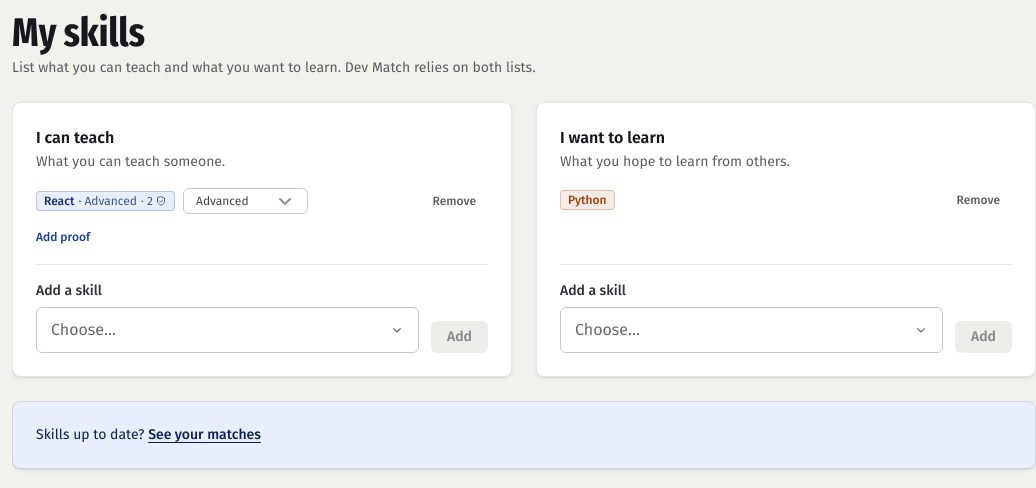
page des compétences › parle anglais quand l interface est en anglais
expect the heading "I can teach" is shown: met, box [36, 128, 114, 147]
expect the heading "I want to learn" is shown: met, box [560, 128, 665, 147]
Click the dropdown labelled "Add a skill" below "React" at (228, 330), box [36, 307, 419, 353]
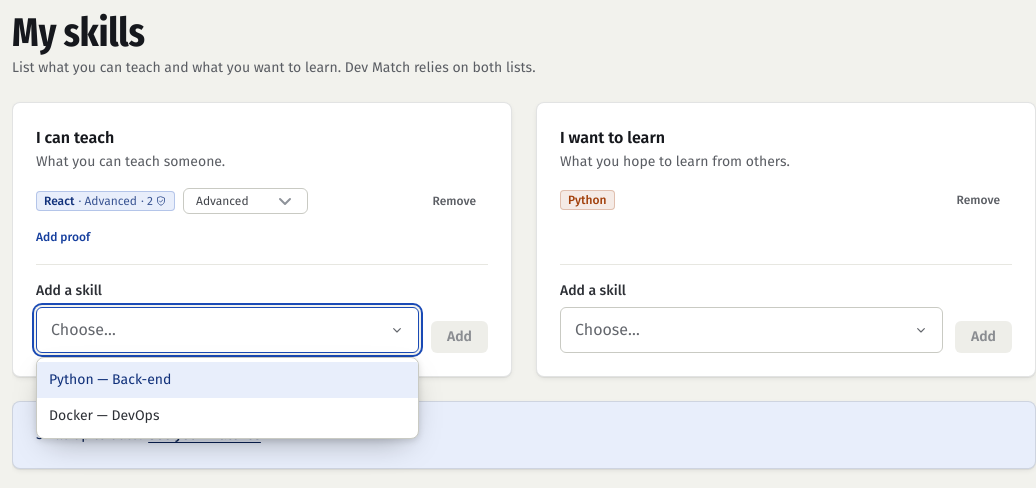
expect the option "Docker — DevOps" is shown: met, box [49, 407, 160, 424]
